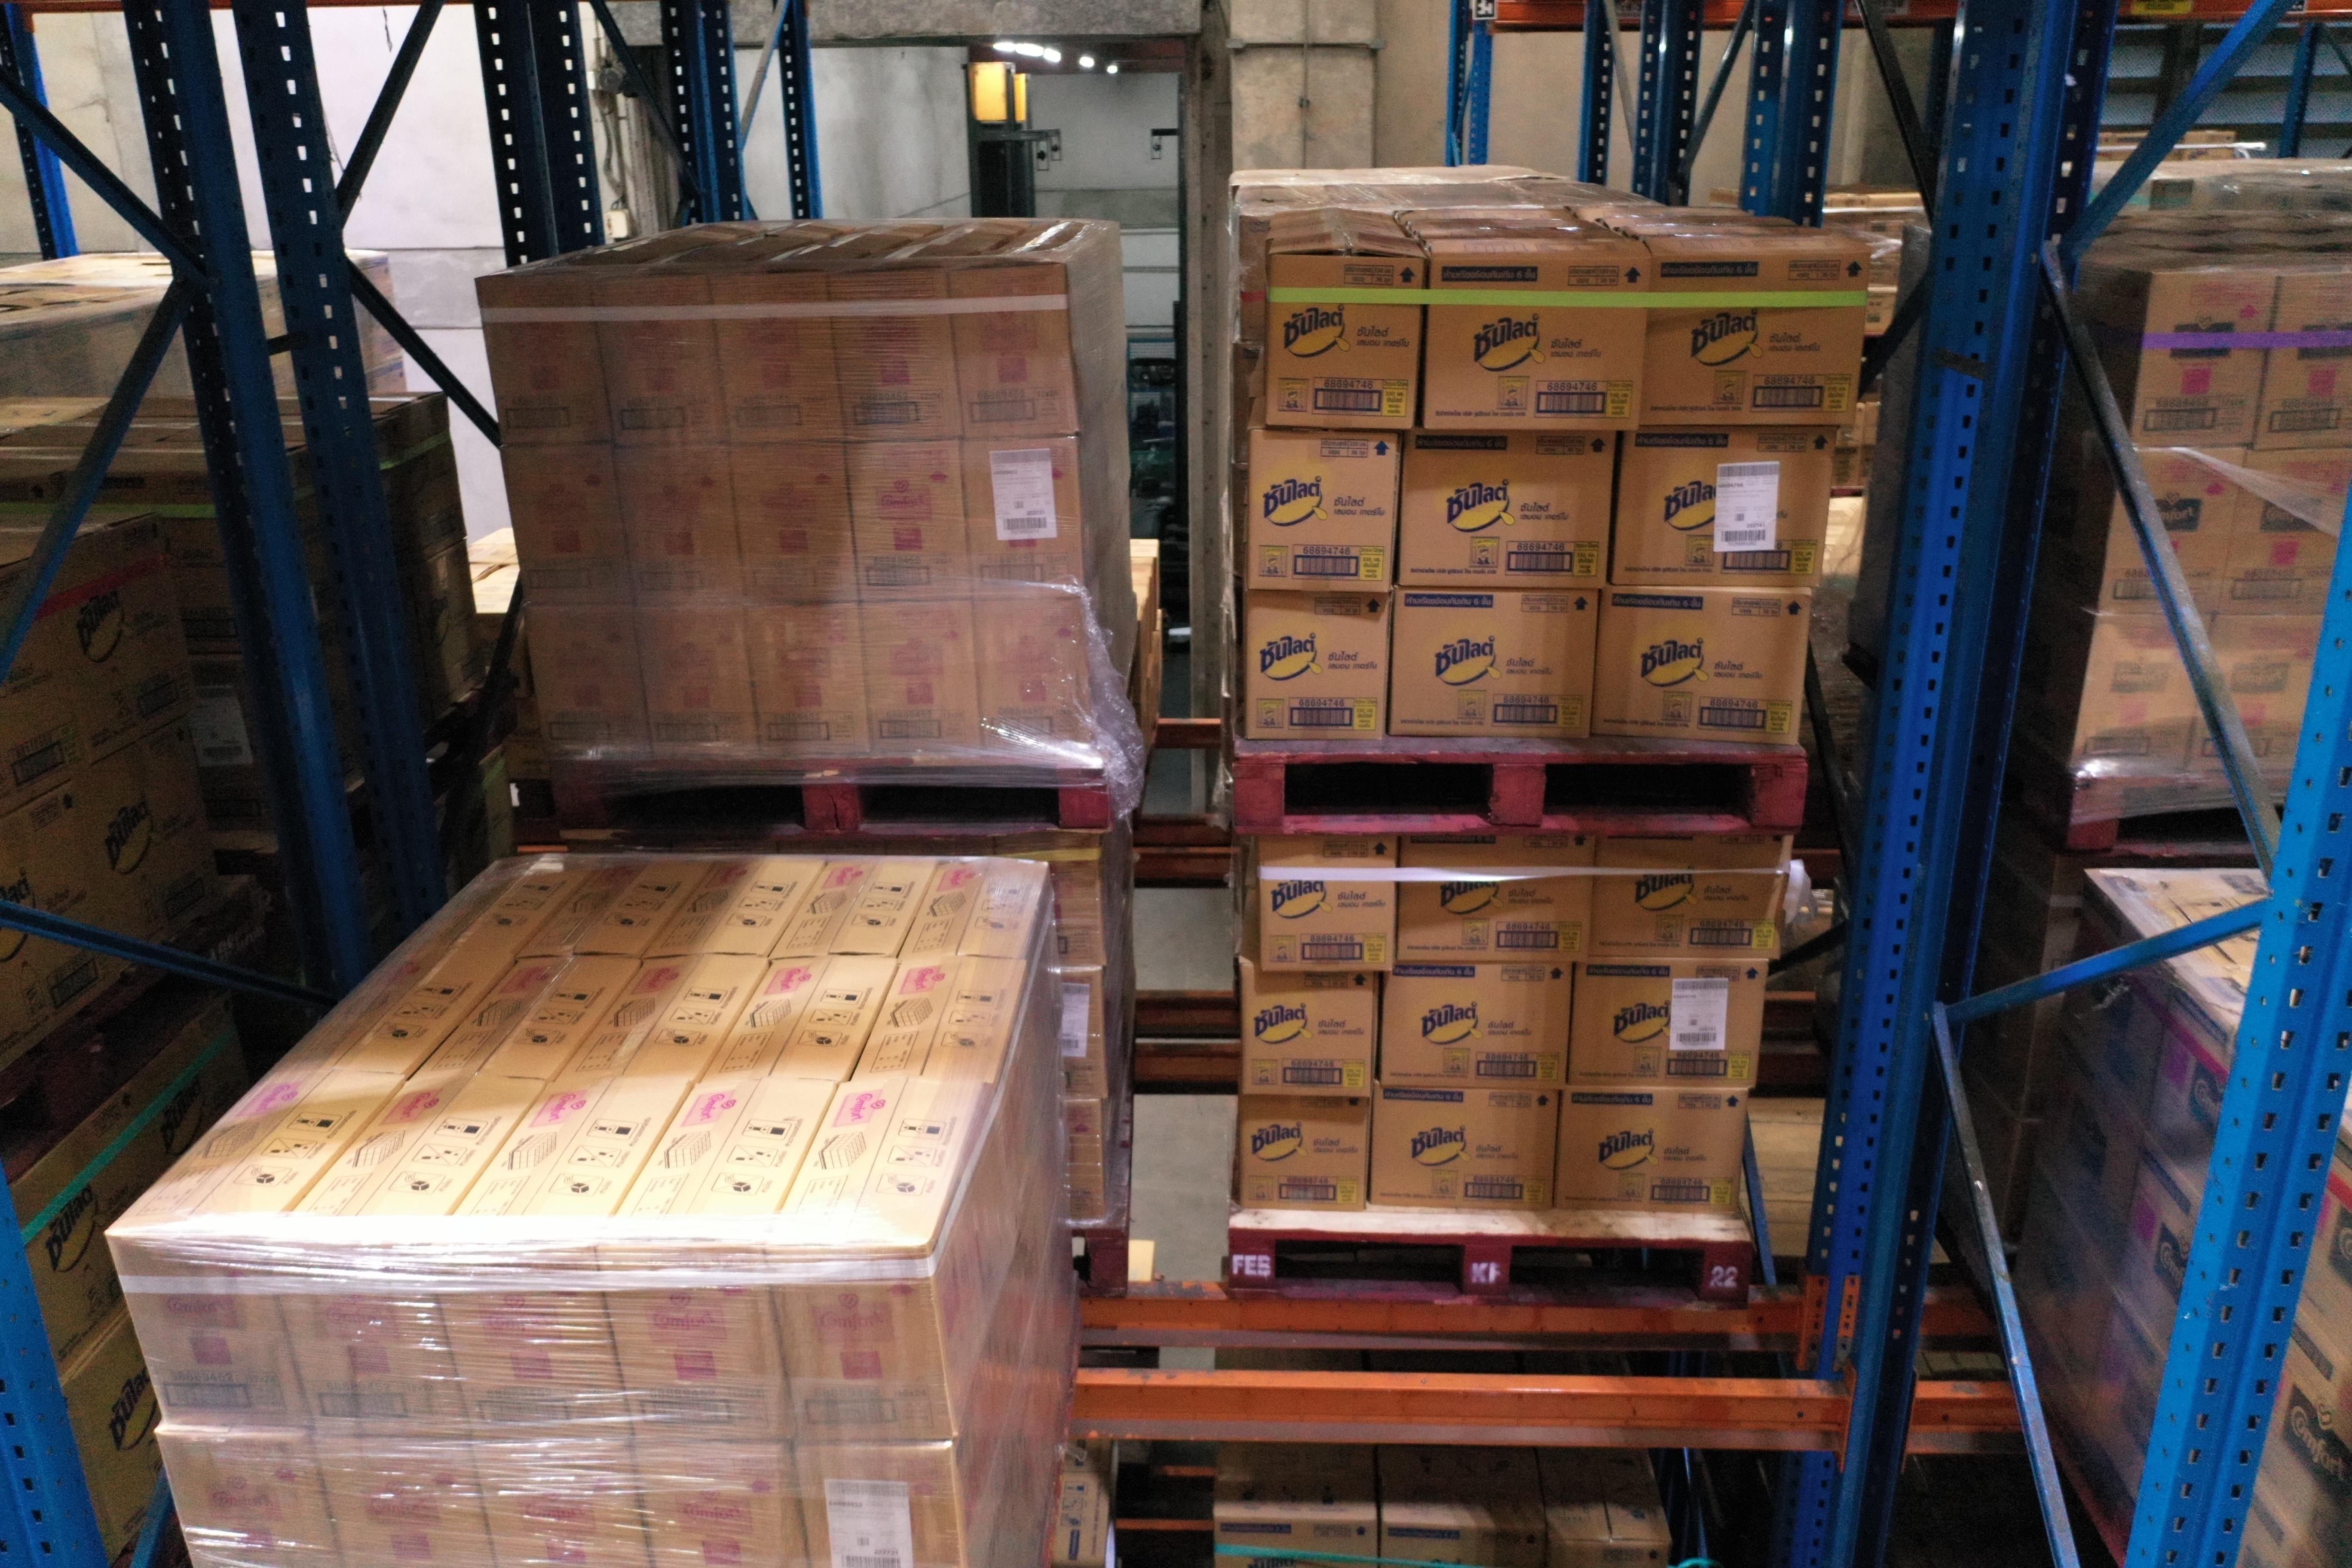-: (269, 1242, 476, 1444), (105, 1236, 314, 1435), (595, 1246, 793, 1444), (430, 1249, 631, 1442), (767, 1246, 958, 1444), (153, 1427, 352, 1568), (314, 1438, 502, 1568), (473, 1442, 665, 1568), (631, 1442, 815, 1568), (795, 1442, 970, 1568)
box: (1421, 251, 1653, 432), (1638, 253, 1873, 429), (1612, 425, 1834, 587), (1590, 587, 1815, 745), (1397, 427, 1615, 589), (1390, 587, 1598, 740), (1266, 253, 1424, 432), (2128, 274, 2281, 453), (1397, 833, 1596, 967), (1569, 960, 1767, 1093), (2098, 446, 2250, 617), (1249, 427, 1400, 594), (1590, 836, 1789, 963), (473, 273, 615, 451), (1369, 1089, 1565, 1213), (1380, 965, 1572, 1091), (1558, 1084, 1749, 1210), (593, 274, 729, 449), (2068, 613, 2214, 776), (710, 274, 846, 446), (2219, 444, 2352, 616), (949, 265, 1075, 445), (829, 274, 961, 445), (2188, 611, 2324, 776), (1244, 592, 1390, 742), (727, 446, 861, 606), (612, 446, 744, 606), (502, 451, 634, 608), (846, 441, 973, 604), (634, 606, 765, 761), (744, 604, 872, 756), (973, 597, 1097, 754), (963, 437, 1082, 599), (526, 609, 652, 761), (858, 599, 982, 754), (1237, 962, 1376, 1100), (1259, 838, 1397, 974), (2252, 274, 2352, 449), (1240, 1093, 1374, 1212)
